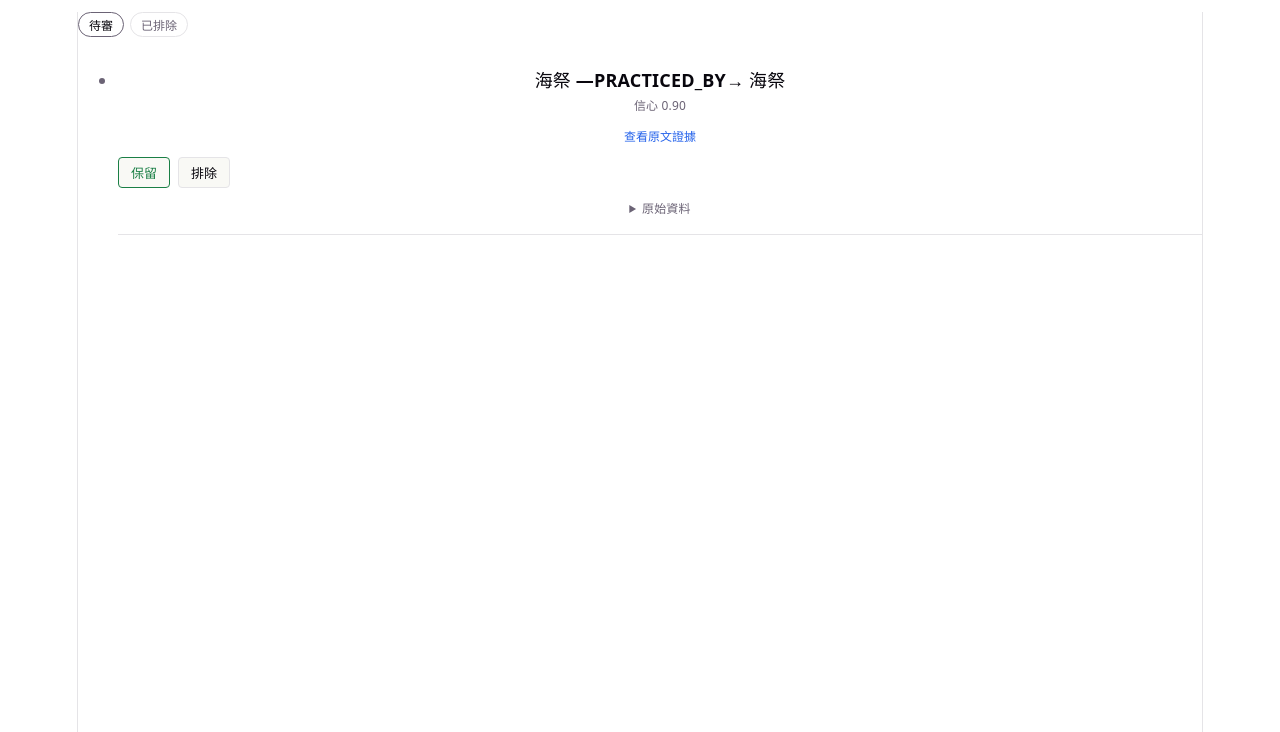
Test: RelationReview › stays locked while the queue refreshes after a decision (stale-while-revalidate, Codex #106 P1d)
Click the button "保留".
click(144, 173)  # box [118,157,170,188]
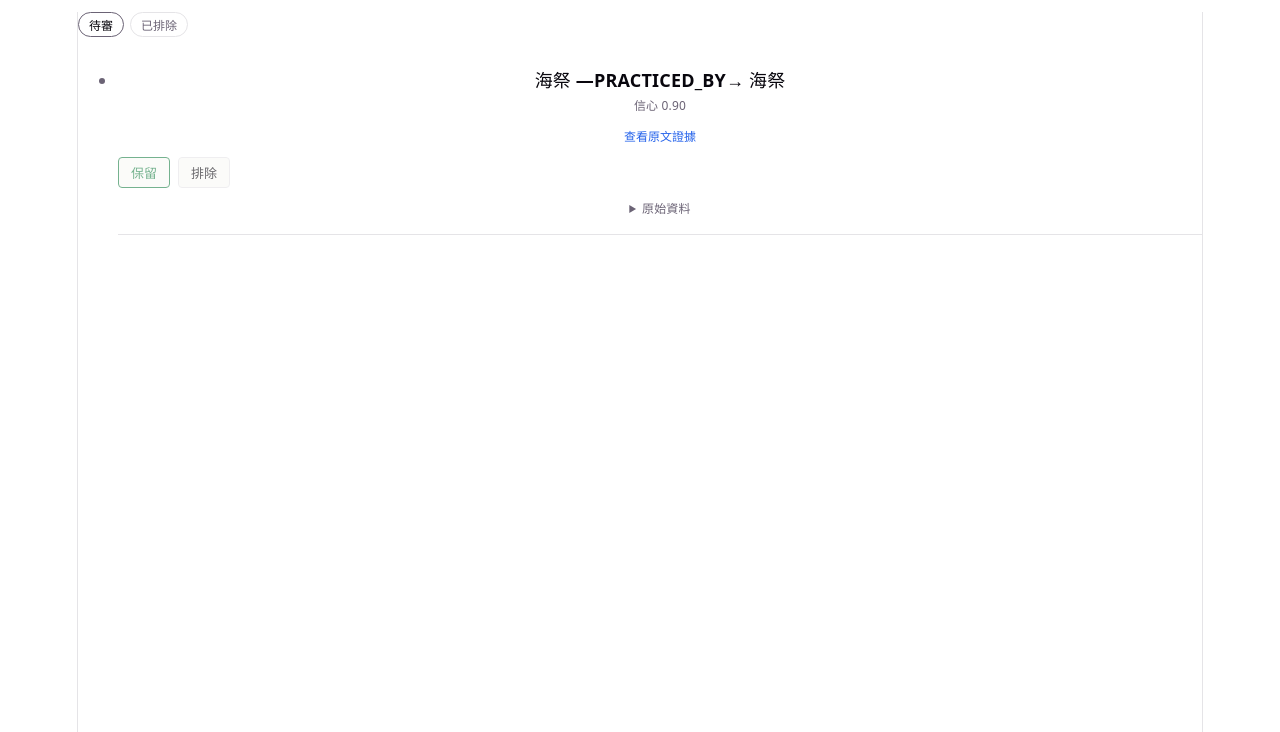
Check: the button "保留" is disabled, box [118,157,170,188]
Check: the button "排除" is disabled, box [178,157,230,188]
